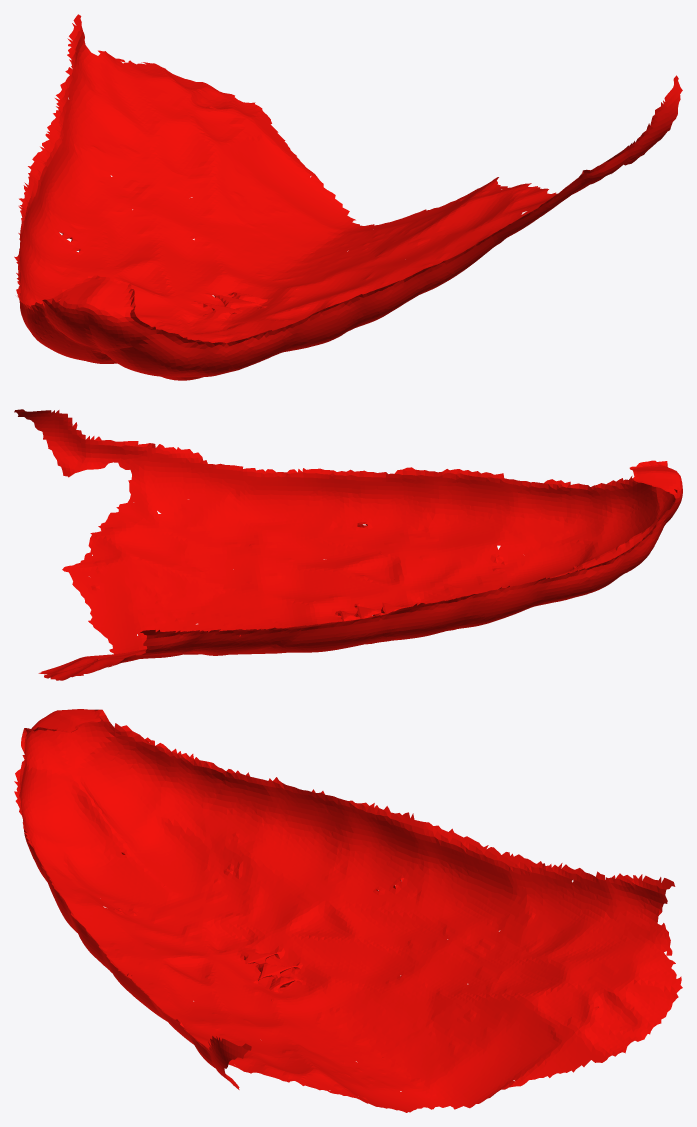
Rendered from zone2-serpent-red.gltf.
The picture shows the model from 3 angles, top to bottom: view 1: azimuth 30°, elevation 25°; view 2: azimuth 150°, elevation 25°; view 3: azimuth 270°, elevation 25°; orthographic projection. The views are drawn at different scales.
Parts seen in each view (by area): view 1: imagetostl_mesh; view 2: imagetostl_mesh; view 3: imagetostl_mesh.
Part boxes in pixels (x1=…): imagetostl_mesh: x1=14, y1=14, x2=682, y2=380; imagetostl_mesh: x1=14, y1=409, x2=682, y2=680; imagetostl_mesh: x1=14, y1=709, x2=682, y2=1112.
Bounding box in the file's own units: 13.55 × 3.47 × 11.58.
